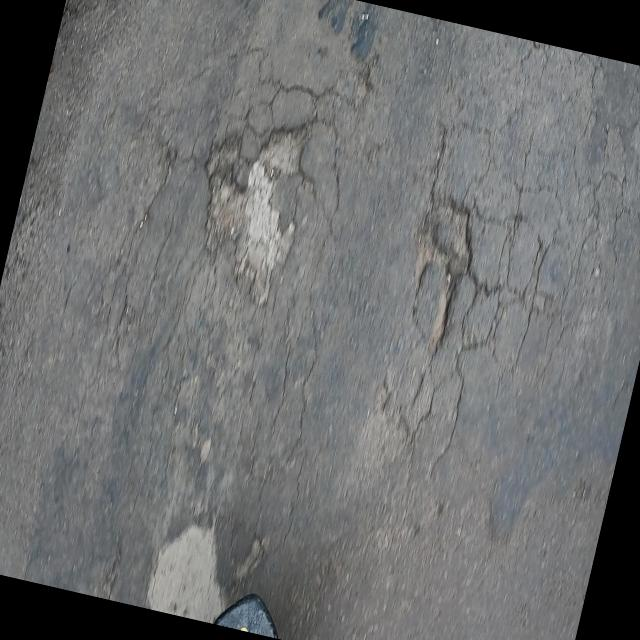Lubang: (206, 127, 308, 304)
